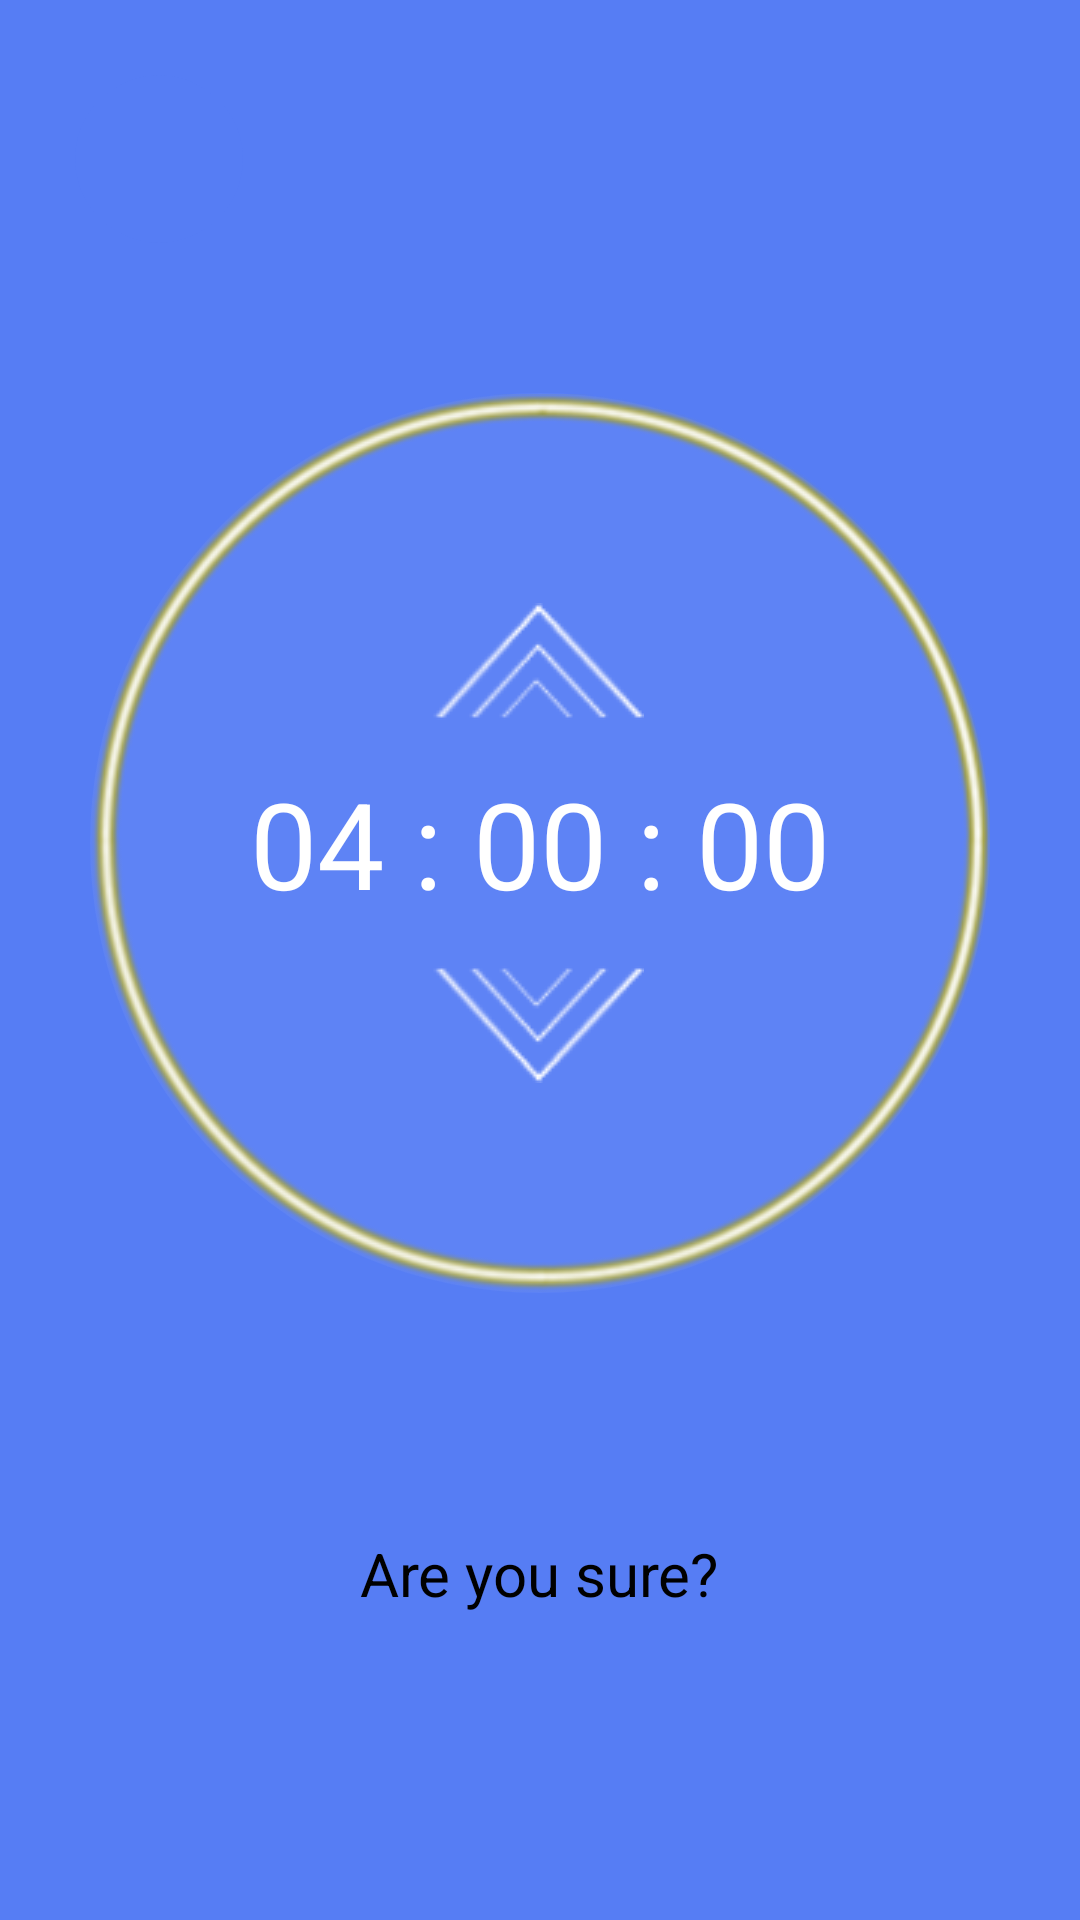

Icon click points for this 1080×1920 phone screenshot, format (x,y):
downarrow: (540,1025)
uparrow: (540,660)
